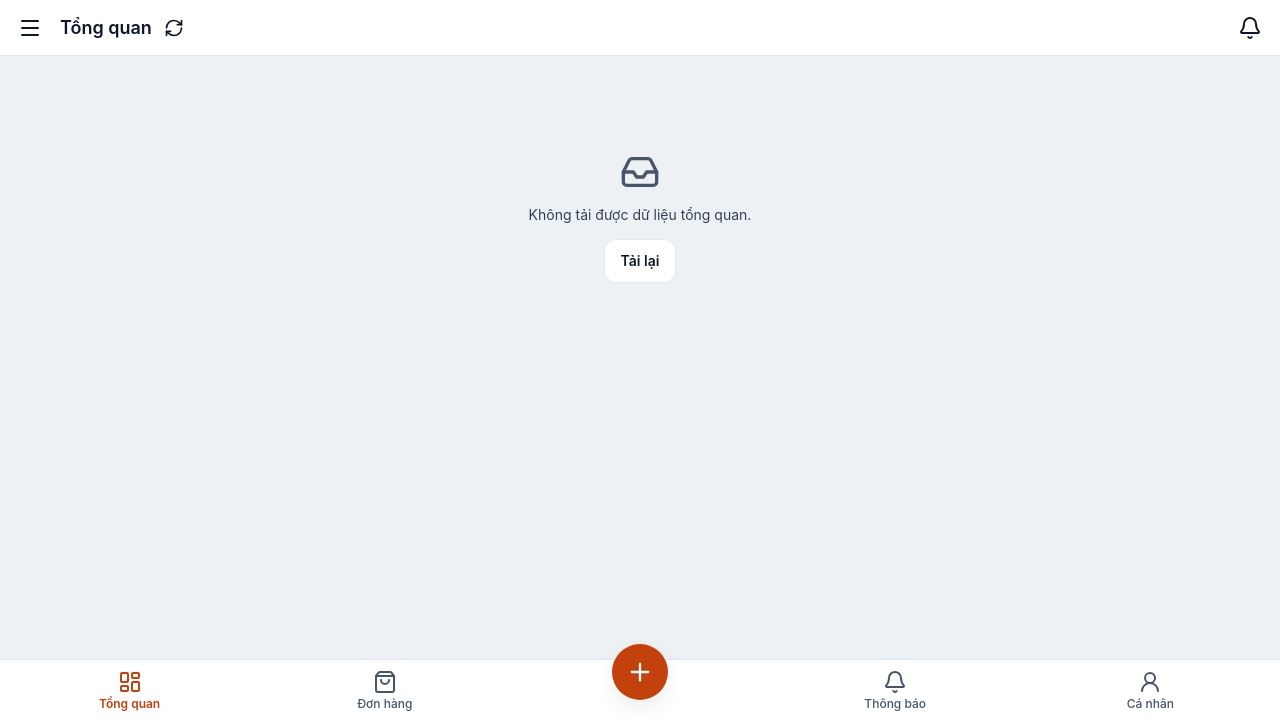
Test: Review M1-03a › AC-SYS-039 menu trượt có nút Đóng menu; đóng xong focus về nút Mở menu
This screenshot has width=1280, height=720.
Step 1. Click the button named "Mở menu" → {"x": 30, "y": 28}, box [8,6,52,50]
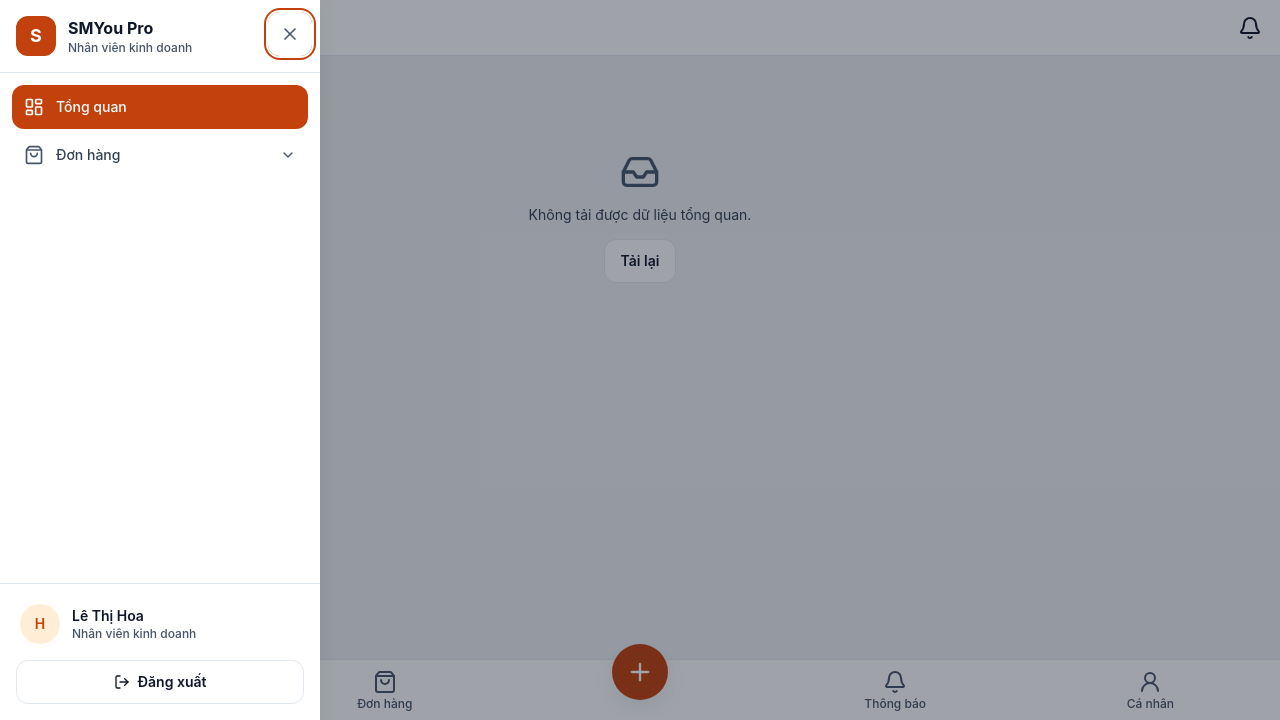
Step 2. Click the button named "Đóng menu" → {"x": 290, "y": 34}, box [268,12,312,56]
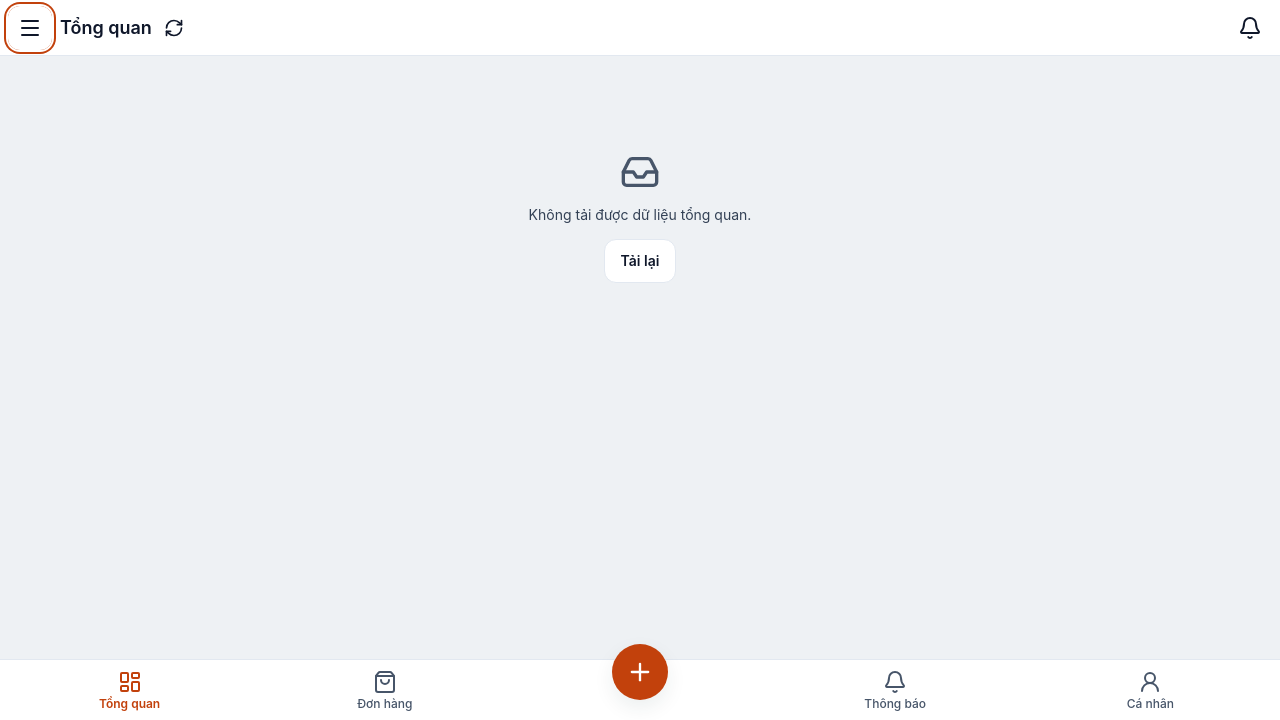
Expected: the button "Menu" is gone
